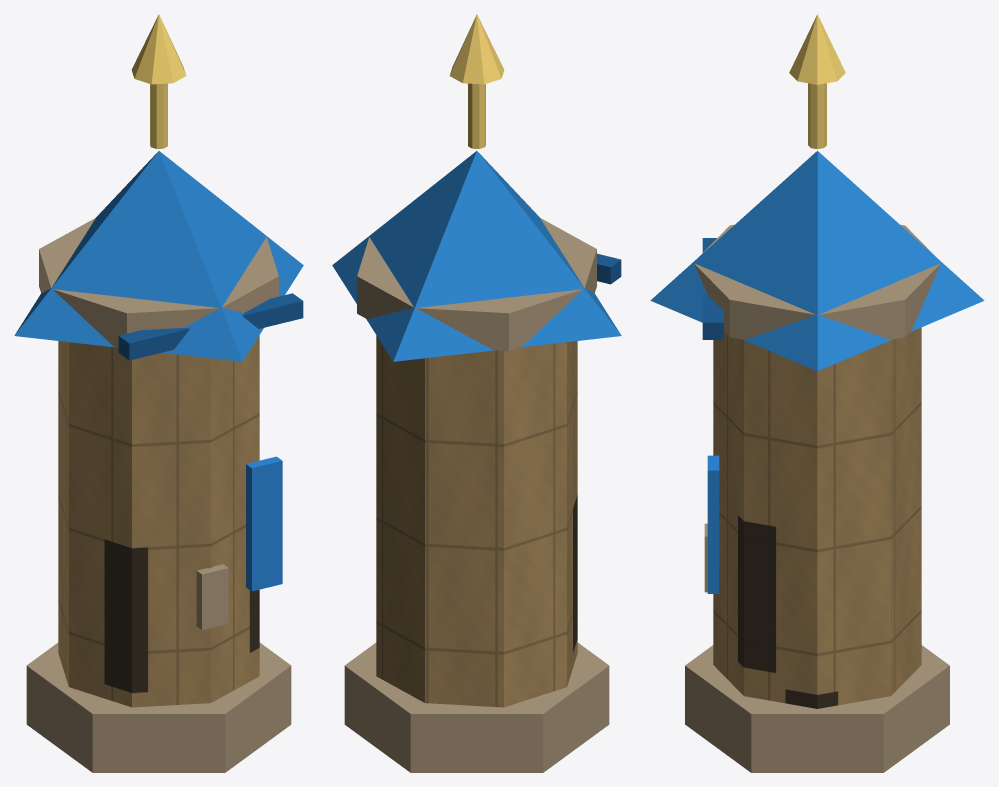
File: city-module-tower-lod0.glb
The picture shows the model from 3 angles, left to right: view 1: azimuth 30°, elevation 25°; view 2: azimuth 150°, elevation 25°; view 3: azimuth 270°, elevation 25°; orthographic projection.
Parts seen in each view (by area): view 1: module_tower_stone_body, module_tower_blue_roof, module_tower_plinth, module_tower_top_stone_ring, module_tower_banner_strip, module_tower_roof_front_trim, module_tower_gold_tip, module_tower_window_shadow_front, module_tower_gold_spire; view 2: module_tower_stone_body, module_tower_blue_roof, module_tower_plinth, module_tower_top_stone_ring, module_tower_gold_tip, module_tower_gold_spire, module_tower_roof_front_trim; view 3: module_tower_stone_body, module_tower_blue_roof, module_tower_plinth, module_tower_top_stone_ring, module_tower_gold_tip, module_tower_banner_strip, module_tower_gold_spire, module_tower_roof_front_trim.
Boxes of the visible parts, <box> form: module_tower_stone_body: <box>58,335,259,707</box>; module_tower_blue_roof: <box>14,151,303,361</box>; module_tower_plinth: <box>26,642,291,772</box>; module_tower_top_stone_ring: <box>39,218,278,347</box>; module_tower_banner_strip: <box>246,456,282,591</box>; module_tower_roof_front_trim: <box>118,293,303,360</box>; module_tower_gold_tip: <box>131,14,186,84</box>; module_tower_window_shadow_front: <box>196,564,228,630</box>; module_tower_gold_spire: <box>150,83,167,148</box>; module_tower_stone_body: <box>376,335,577,707</box>; module_tower_blue_roof: <box>332,151,621,361</box>; module_tower_plinth: <box>344,642,609,772</box>; module_tower_top_stone_ring: <box>357,218,596,350</box>; module_tower_gold_tip: <box>449,14,504,84</box>; module_tower_gold_spire: <box>468,83,485,148</box>; module_tower_roof_front_trim: <box>597,253,621,284</box>; module_tower_stone_body: <box>713,327,921,708</box>; module_tower_blue_roof: <box>650,151,984,371</box>; module_tower_plinth: <box>685,645,949,772</box>; module_tower_top_stone_ring: <box>694,224,940,339</box>; module_tower_gold_tip: <box>789,14,845,84</box>; module_tower_banner_strip: <box>707,455,719,593</box>; module_tower_gold_spire: <box>808,83,826,149</box>; module_tower_roof_front_trim: <box>702,238,723,339</box>.
Size of the model in its own units: 0.2828 by 0.663 by 0.2828.
6 materials, 1 textured.
